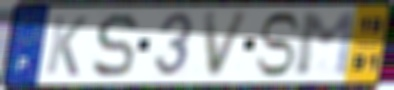3: (150, 9, 195, 81)
K: (43, 14, 90, 79)
M: (294, 9, 360, 79)
S: (90, 11, 141, 81), (253, 11, 303, 80)
V: (202, 9, 253, 81)
